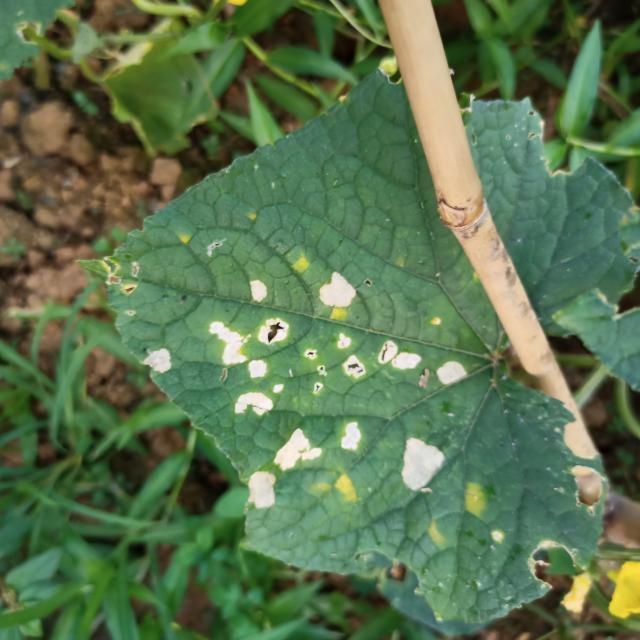disease_cucumber: (206, 266, 428, 417), (399, 434, 448, 496), (274, 424, 324, 470), (141, 341, 182, 378), (244, 468, 278, 512), (320, 470, 359, 507), (337, 414, 369, 454), (462, 474, 491, 518), (436, 356, 468, 388), (425, 517, 449, 552), (288, 251, 316, 274), (326, 305, 354, 326)
